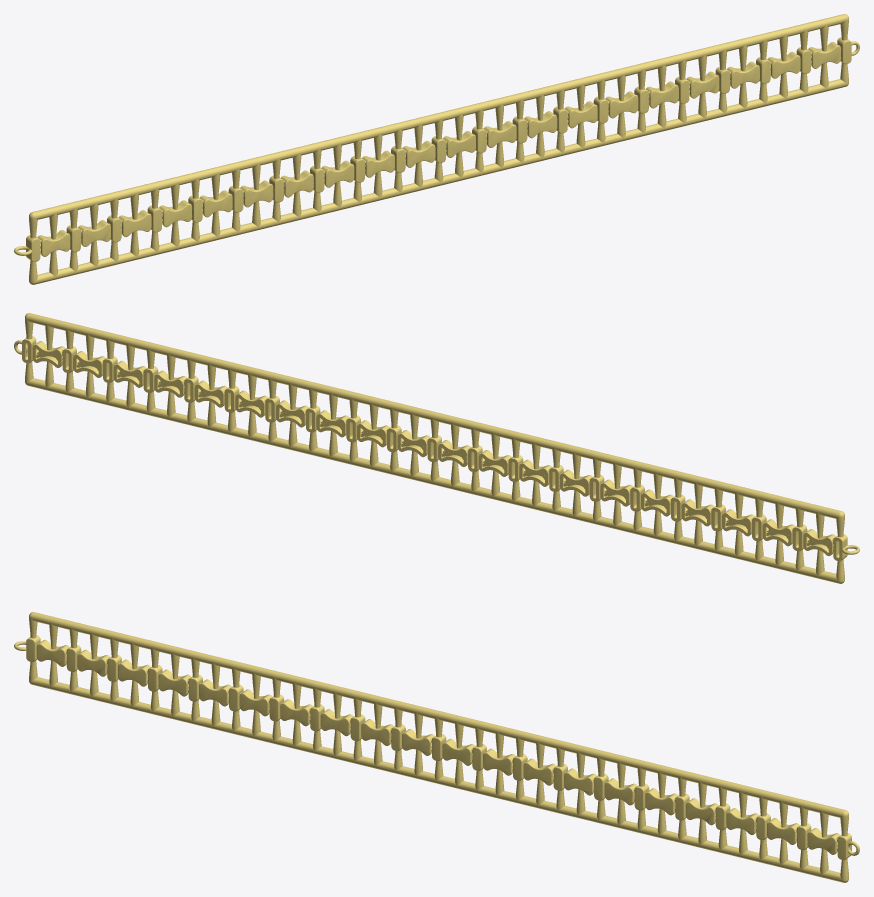
File: zincir_kalem.glb
3 renders of one model, top to bottom at view 1: azimuth 30°, elevation 25°; view 2: azimuth 150°, elevation 25°; view 3: azimuth 330°, elevation 25°, orthographic.
Parts seen in each view (by area): view 1: Renderer Node; view 2: Renderer Node; view 3: Renderer Node.
Boxes of the visible parts, left/top/right/bottom form: Renderer Node: left=14, top=14, right=859, bottom=284; Renderer Node: left=14, top=313, right=859, bottom=583; Renderer Node: left=14, top=612, right=859, bottom=882.
Bounding box in the file's own units: 165 × 13.45 × 3.1.
